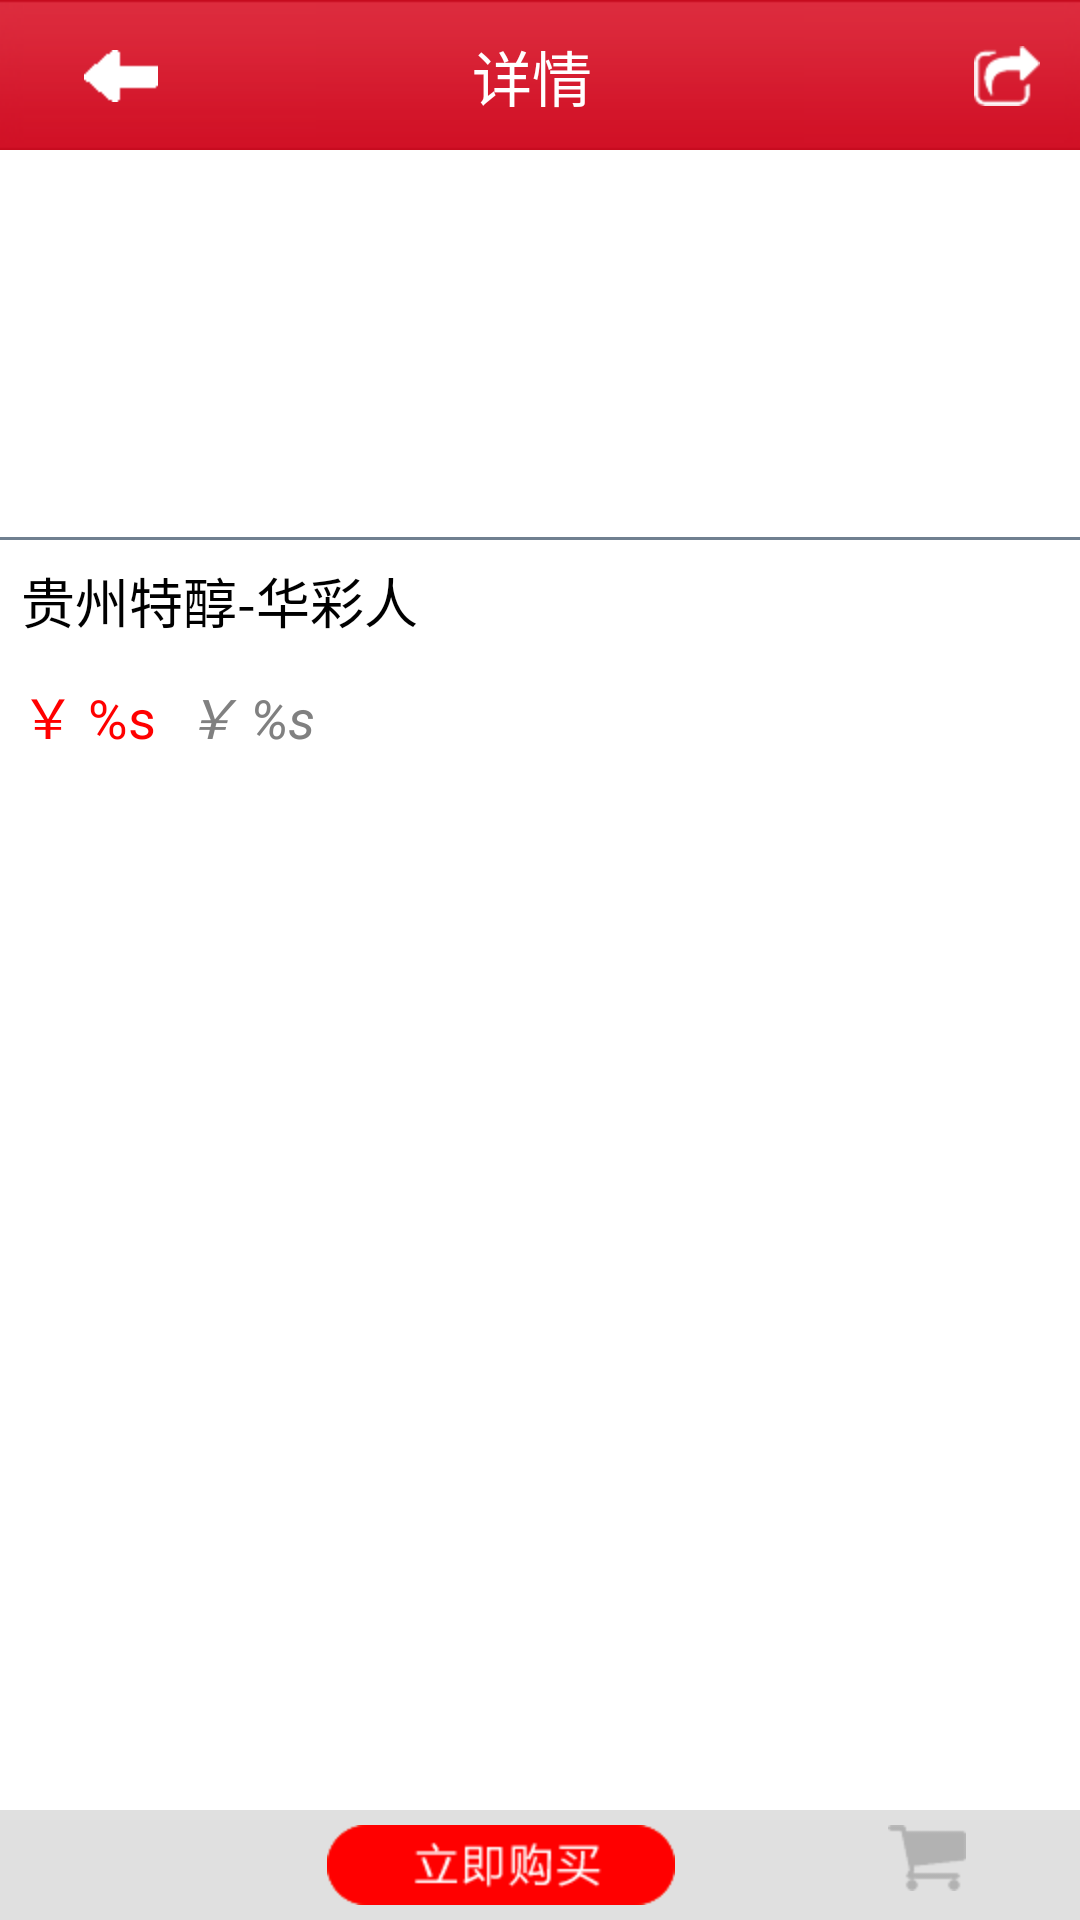

Icons on this 1080*1920 Android screen, each with its box as (x1, y1, x2, y2):
back: (84, 50, 158, 102)
cart: (888, 1825, 966, 1891)
share: (974, 46, 1040, 106)
